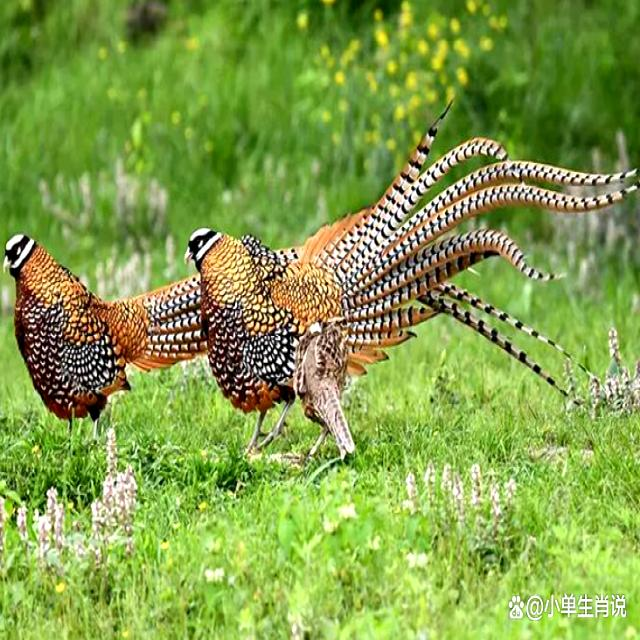Reeves-s Pheasant: (300, 97, 640, 404)
